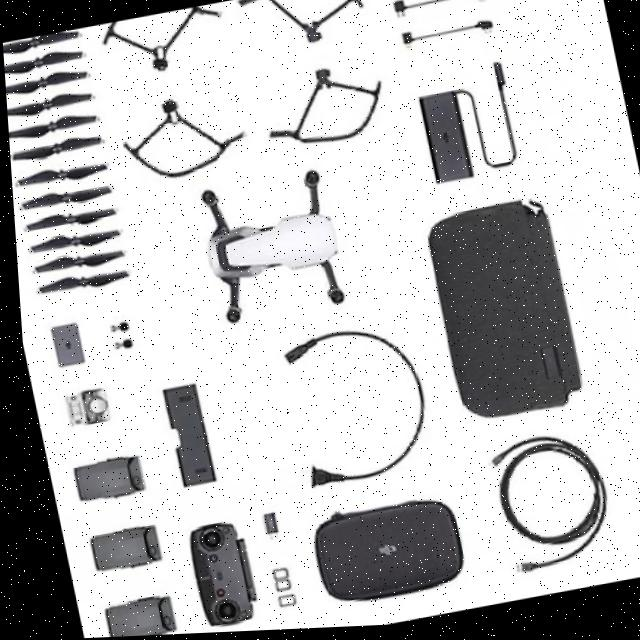drones: (147, 132, 359, 340)
